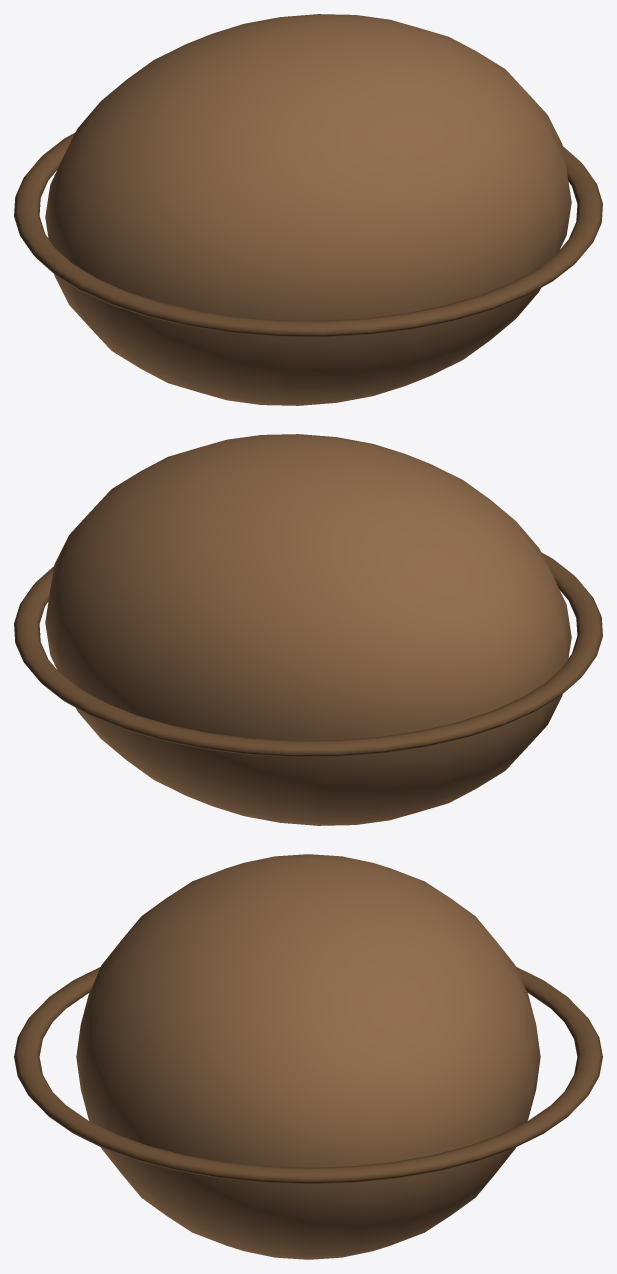
File: wp-noix-de-grenoble.glb
3 views of the same model, one above another, from view 1: azimuth 30°, elevation 25°; view 2: azimuth 150°, elevation 25°; view 3: azimuth 270°, elevation 25° (orthographic).
Visible parts, largest first — view 1: wp-noix-de-grenoble; view 2: wp-noix-de-grenoble; view 3: wp-noix-de-grenoble.
Boxes of the visible parts, <box> form: wp-noix-de-grenoble: <box>14,14,602,405</box>; wp-noix-de-grenoble: <box>14,434,602,825</box>; wp-noix-de-grenoble: <box>14,854,602,1259</box>.
Bounding box in the file's own units: 0.08 × 0.05 × 0.08.
